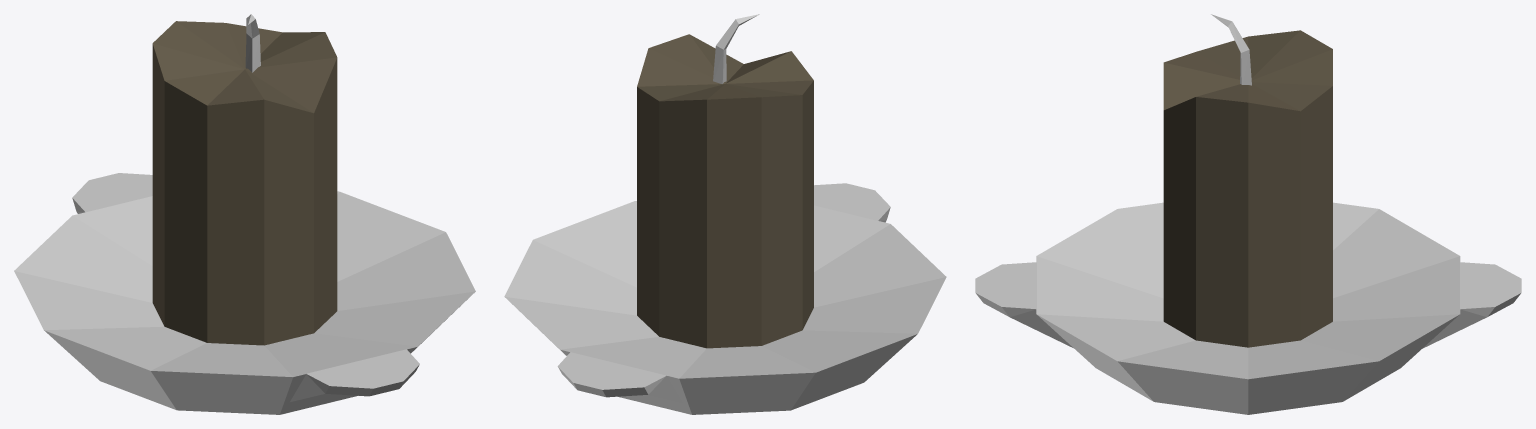
File: NW_CITY_CANDLE_01.OBJ
3 renders of one model, left to right at view 1: azimuth 30°, elevation 25°; view 2: azimuth 150°, elevation 25°; view 3: azimuth 270°, elevation 25°, orthographic. The views are drawn at different scales.
Parts seen in each view (by area): view 1: NW_CITY_CANDLE_01; view 2: NW_CITY_CANDLE_01; view 3: NW_CITY_CANDLE_01.
Boxes of the visible parts, x1,y1,x2,y2 form: NW_CITY_CANDLE_01: (14,14,475,414); NW_CITY_CANDLE_01: (504,14,946,414); NW_CITY_CANDLE_01: (975,14,1521,414).
Size of the model in its own units: 0.4 by 0.3223 by 0.4904.
